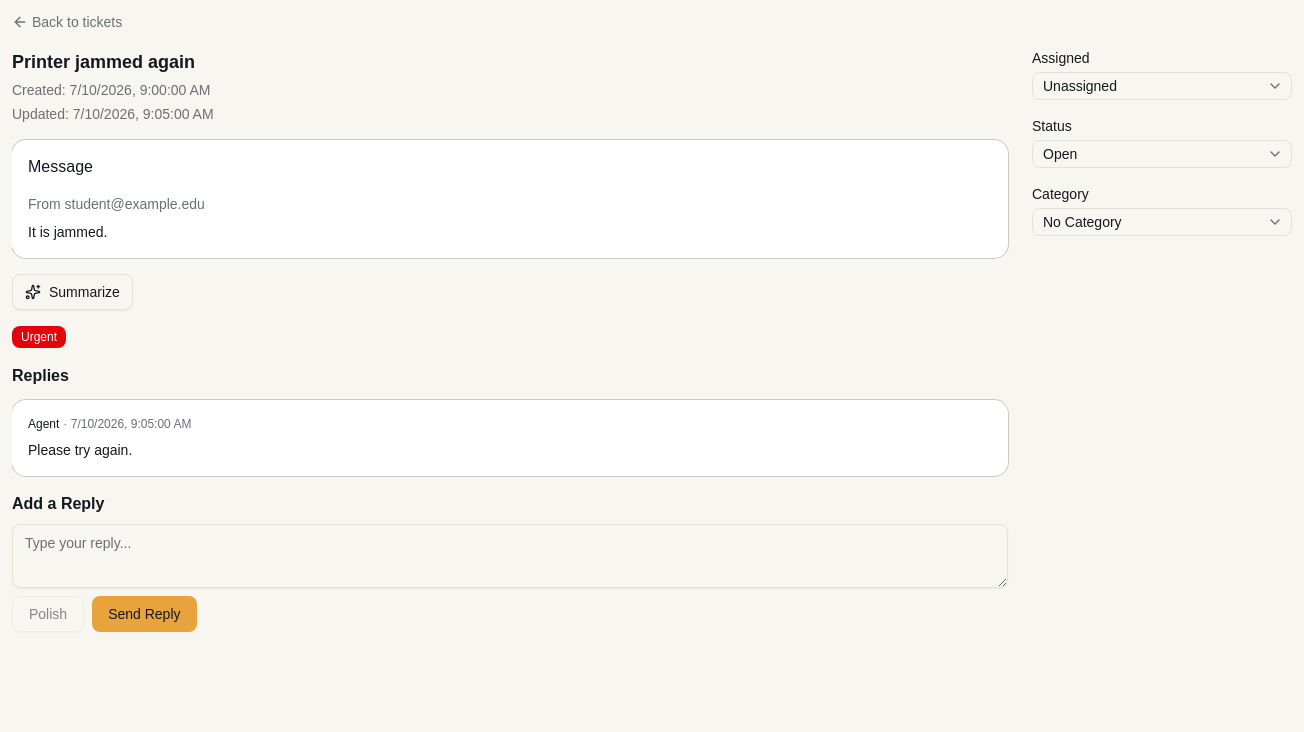
TicketDetailPage › shows an error message when assignment fails
Click the dropdown named "assigned agent" at (1080, 86), box [1032, 72, 1292, 100]
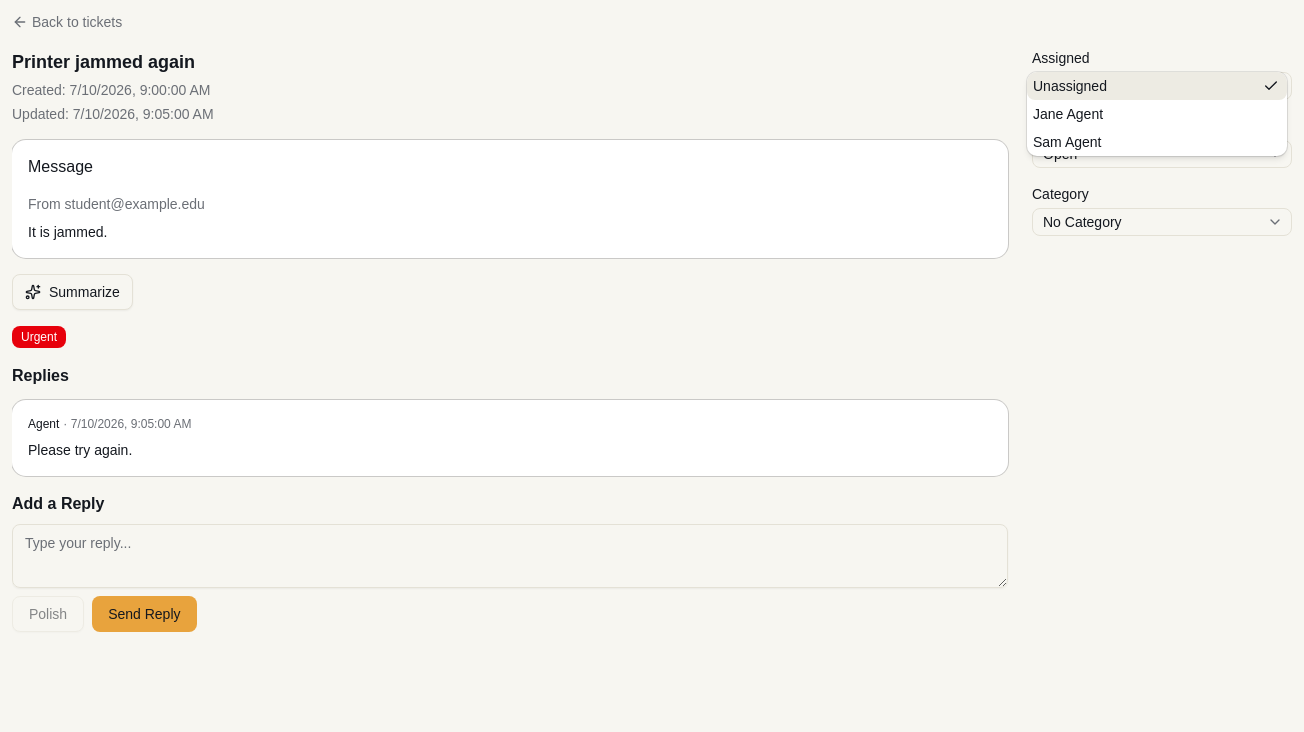
Click the option "Jane Agent" at (1068, 114), box [1033, 106, 1103, 122]
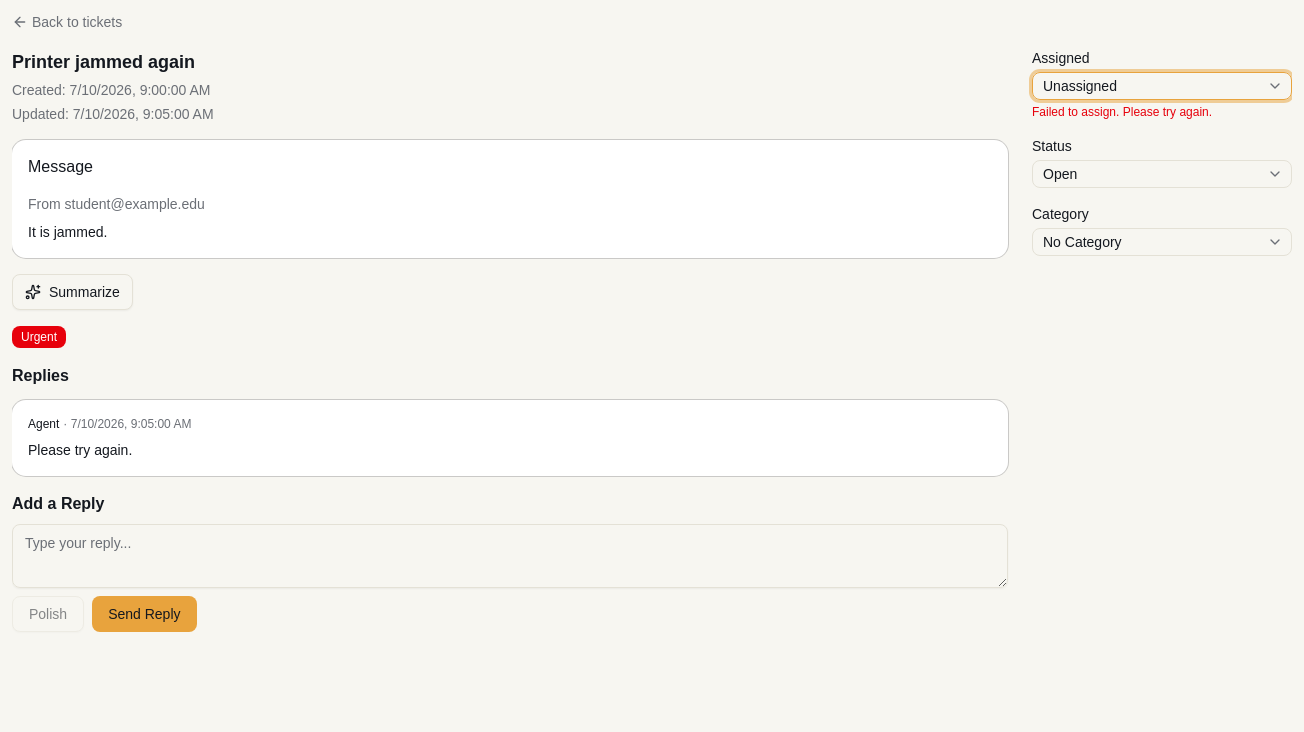
Expected: the text "Failed to assign. Please try again." is shown, [1032, 105, 1212, 119]
